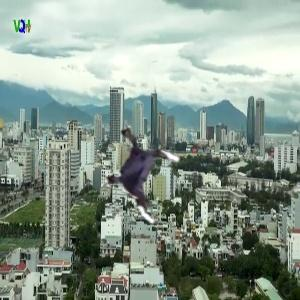drone: (94, 128, 188, 222)
